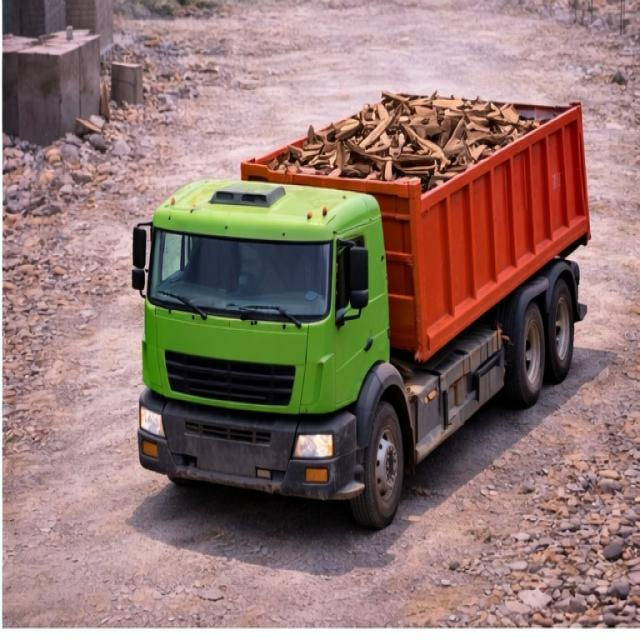Box: (248, 92, 580, 195)
Truck: (128, 77, 597, 527)
